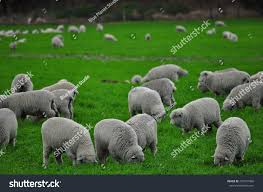sheep: (40, 115, 98, 171), (94, 117, 146, 164), (169, 97, 221, 138), (214, 116, 251, 164), (2, 87, 55, 120), (126, 85, 168, 123), (200, 69, 250, 99), (140, 63, 188, 84), (10, 73, 32, 92), (52, 36, 63, 47)
